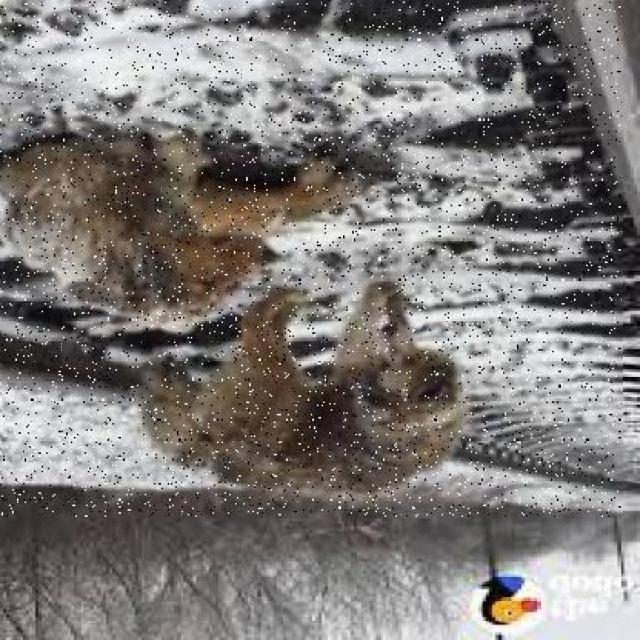rail: (4, 3, 623, 518)
